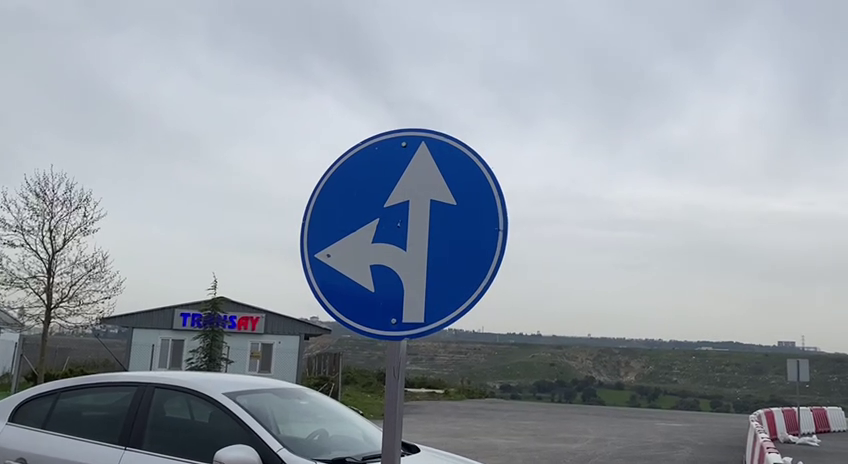forwardAndLeft: (298, 121, 511, 342)
